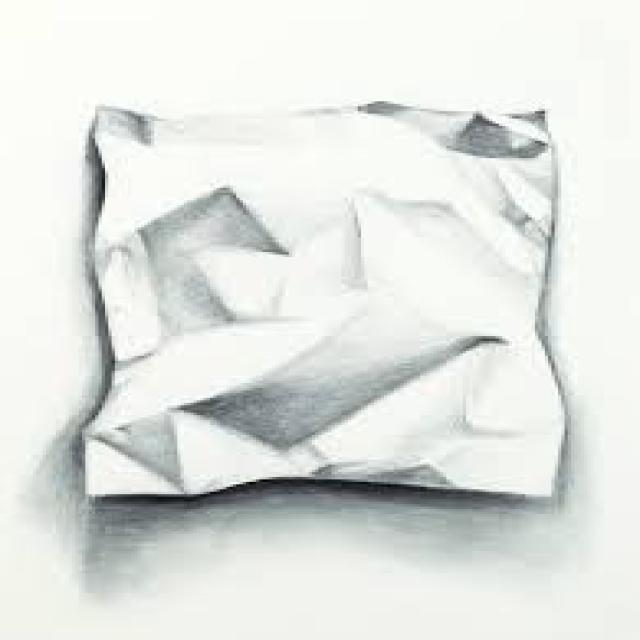paper: (75, 99, 568, 499)
